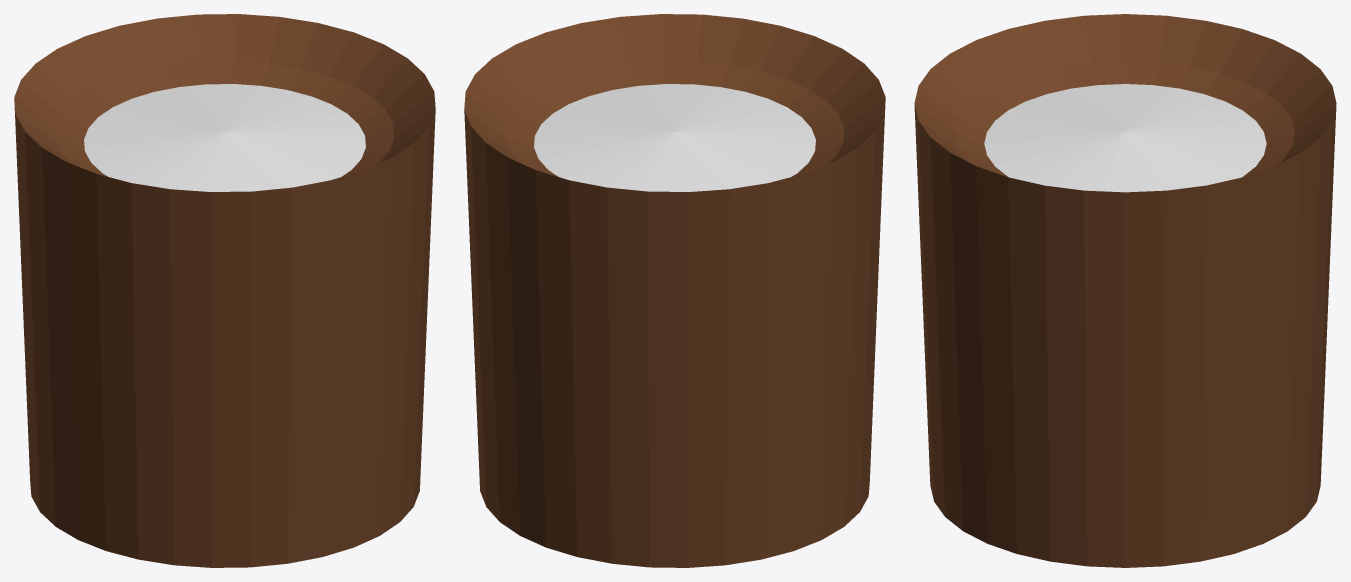
Rendered from tejesVodor 1.fbx.
3 renders of one model, left to right at view 1: azimuth 30°, elevation 25°; view 2: azimuth 150°, elevation 25°; view 3: azimuth 270°, elevation 25°, orthographic.
Parts seen in each view (by area): view 1: Cylinder; view 2: Cylinder; view 3: Cylinder.
Boxes of the visible parts, bbox=[...] form: Cylinder: bbox=[14, 14, 435, 567]; Cylinder: bbox=[464, 14, 885, 567]; Cylinder: bbox=[914, 14, 1336, 567].
Size of the model in its own units: 200 by 200 by 200.
